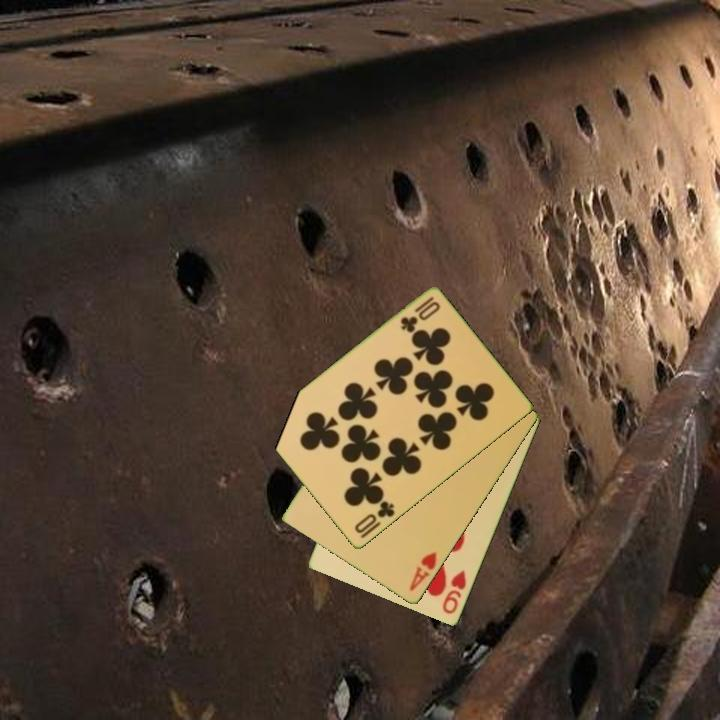10c: (351, 497, 398, 537), (397, 293, 437, 336)
9h: (439, 567, 470, 617)
Ah: (406, 548, 440, 594)
